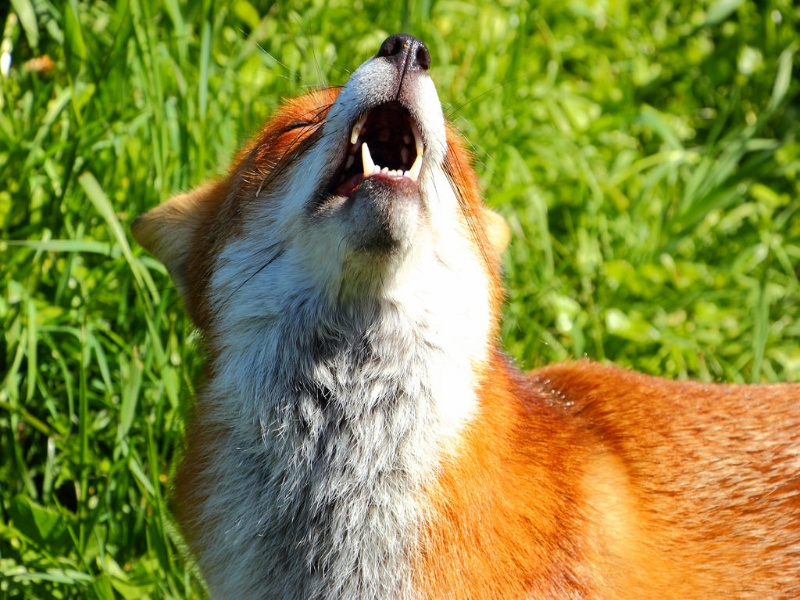fox: (143, 33, 794, 600)
